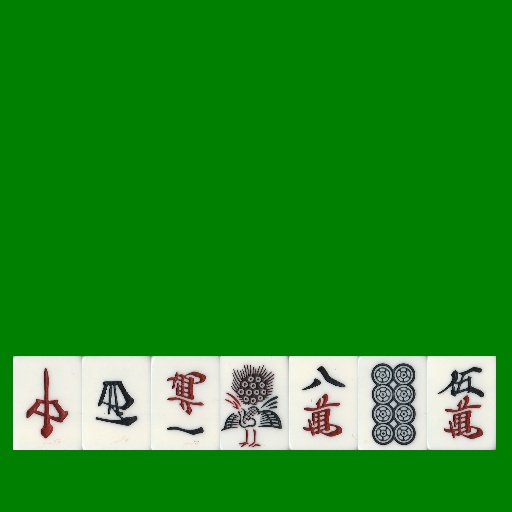1m: (151, 356, 220, 450)
1s: (220, 356, 289, 450)
5m: (427, 356, 496, 450)
8m: (289, 356, 358, 450)
8p: (358, 356, 427, 450)
tyun: (13, 356, 82, 450)
west: (82, 356, 151, 450)
